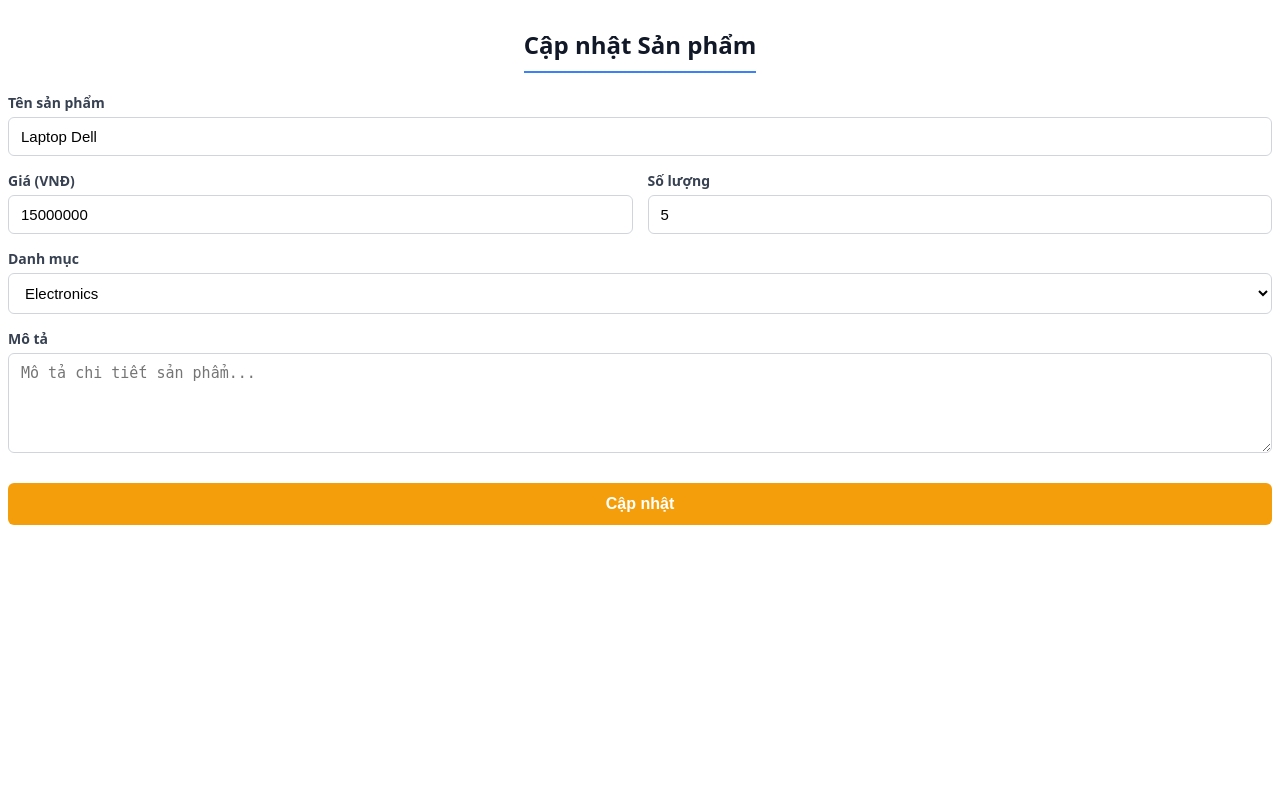
Product Management Mock Tests (Full CRUD) › UPDATE: Load dữ liệu cũ và Cập nhật thành công
Expected: the field with test id "product-name-input" holds "Laptop Dell", [8,117,1272,156]
Replace the text in the number field with test id "product-price-input" with "14000000" at (320, 214), box [8,195,632,234]
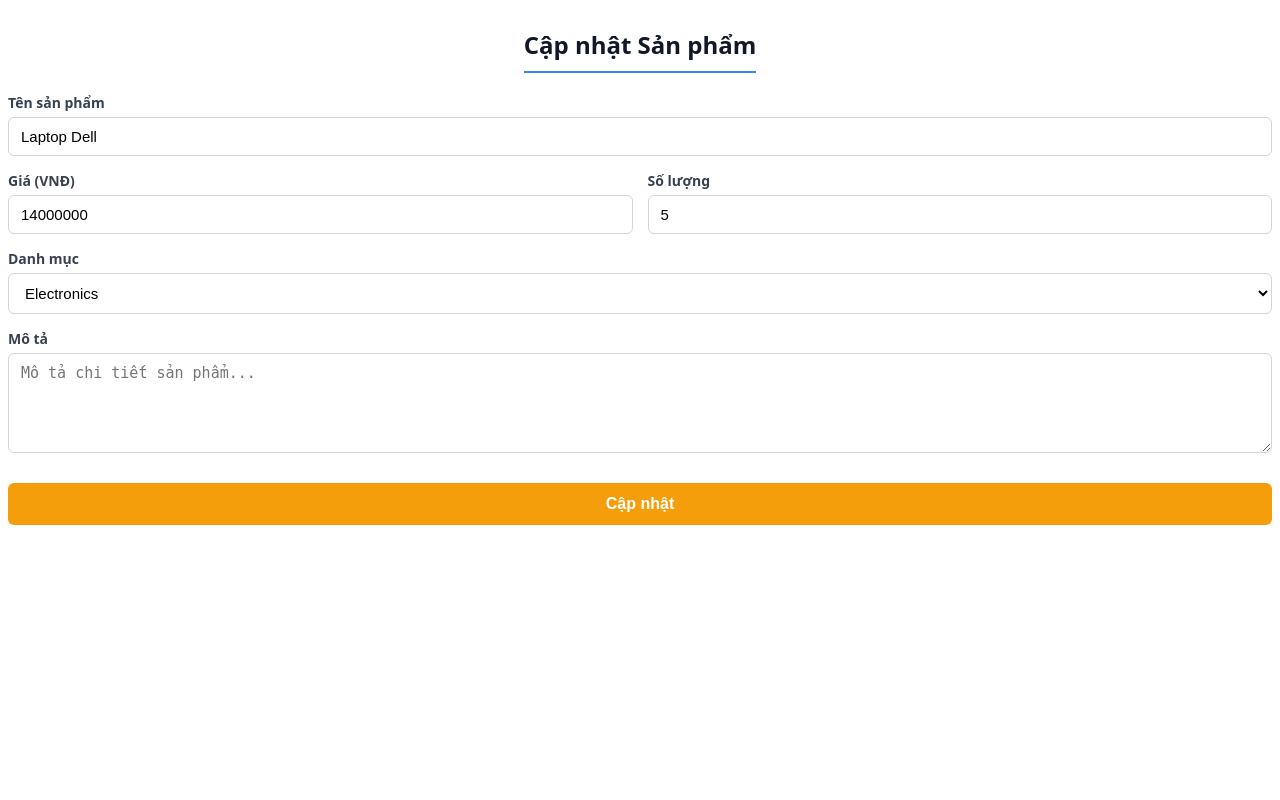
Click the button with test id "submit-btn" at (640, 504), box [8,483,1272,525]
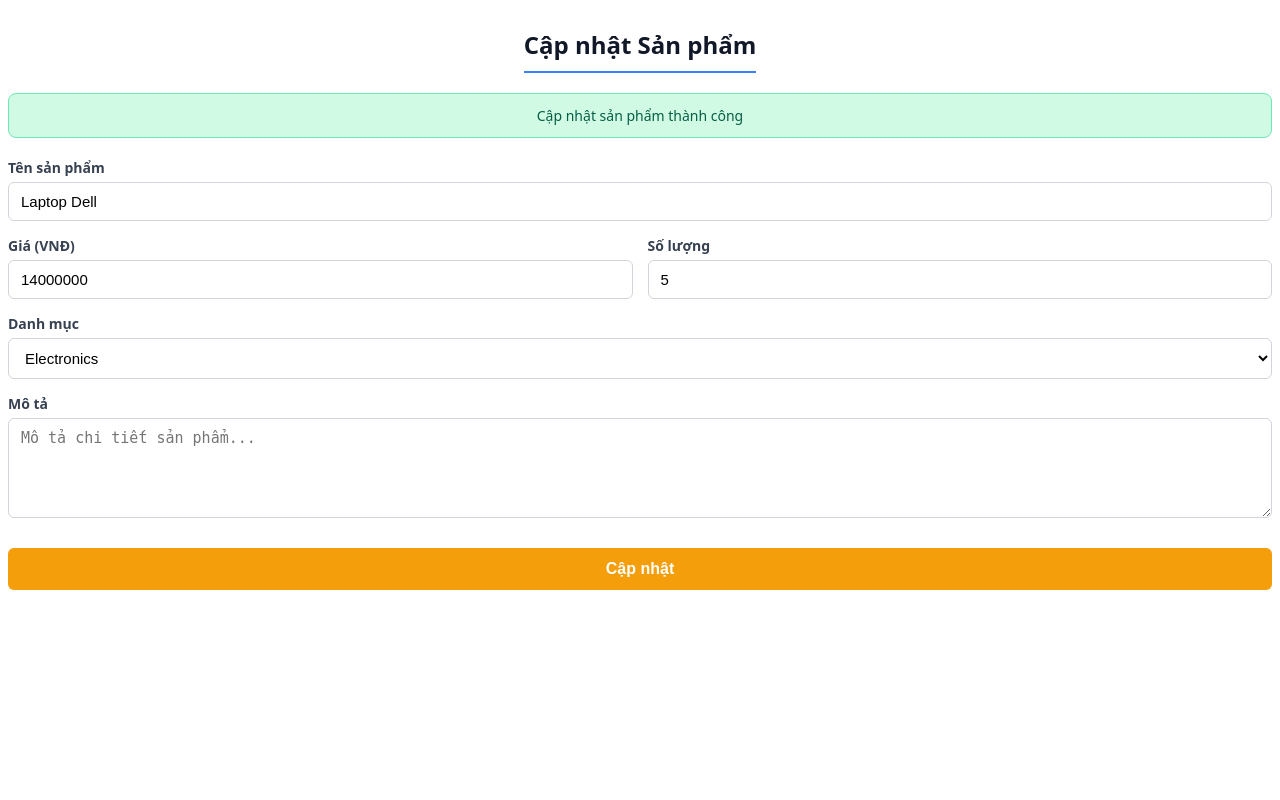
Expected: the text "Cập nhật sản phẩm thành công" is shown, [8,93,1272,138]
